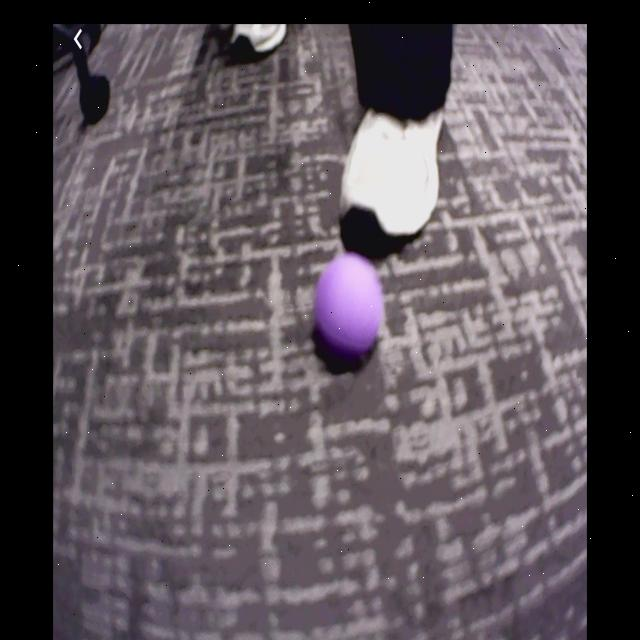ball: (317, 253, 382, 358)
